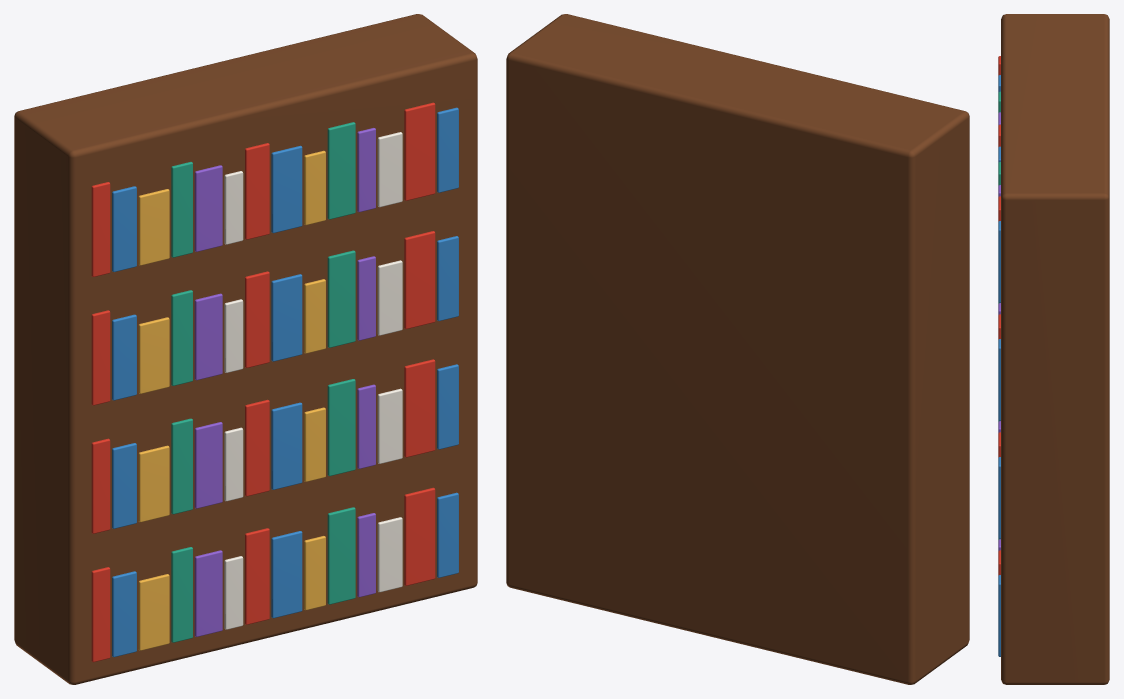
Rendered from bookshelf.glb.
The picture shows the model from 3 angles, left to right: view 1: azimuth 30°, elevation 25°; view 2: azimuth 150°, elevation 25°; view 3: azimuth 270°, elevation 25°; orthographic projection. The views are drawn at different scales.
Visible parts, largest first — view 1: Frame, Book.054, Book.026, Book.040, Book.012, Book.051, Book.023, Book.009, Book.037, Book.035, Book.007, Book.049 (+45 smaller); view 2: Frame; view 3: Frame, Book.013, Book.027, Book.041, Book.055.
Boxes of the visible parts, x1,y1,x2,y2 form: Frame: (14, 14, 477, 684); Book.054: (404, 102, 435, 200); Book.026: (404, 359, 435, 457); Book.040: (404, 231, 435, 329); Book.012: (404, 487, 435, 585); Book.051: (327, 122, 355, 219); Book.023: (327, 379, 355, 476); Book.009: (327, 507, 355, 604); Book.037: (327, 250, 355, 347); Book.035: (271, 274, 302, 361); Book.007: (271, 531, 302, 618); Book.049: (271, 145, 302, 233); Frame: (506, 14, 969, 684); Frame: (1001, 14, 1109, 684); Book.013: (998, 575, 1000, 656); Book.027: (998, 457, 1000, 538); Book.041: (998, 339, 1000, 420); Book.055: (998, 221, 1000, 302).
Bounding box in the file's own units: 1.6 × 2 × 0.41.
